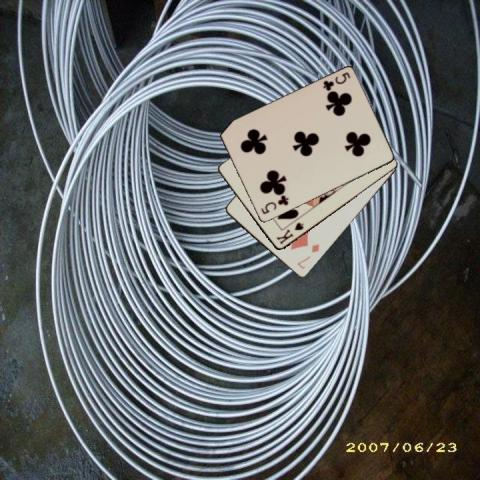5c: (319, 69, 352, 93), (257, 193, 290, 216)
7d: (294, 241, 321, 271)
Ks: (274, 219, 305, 246)
